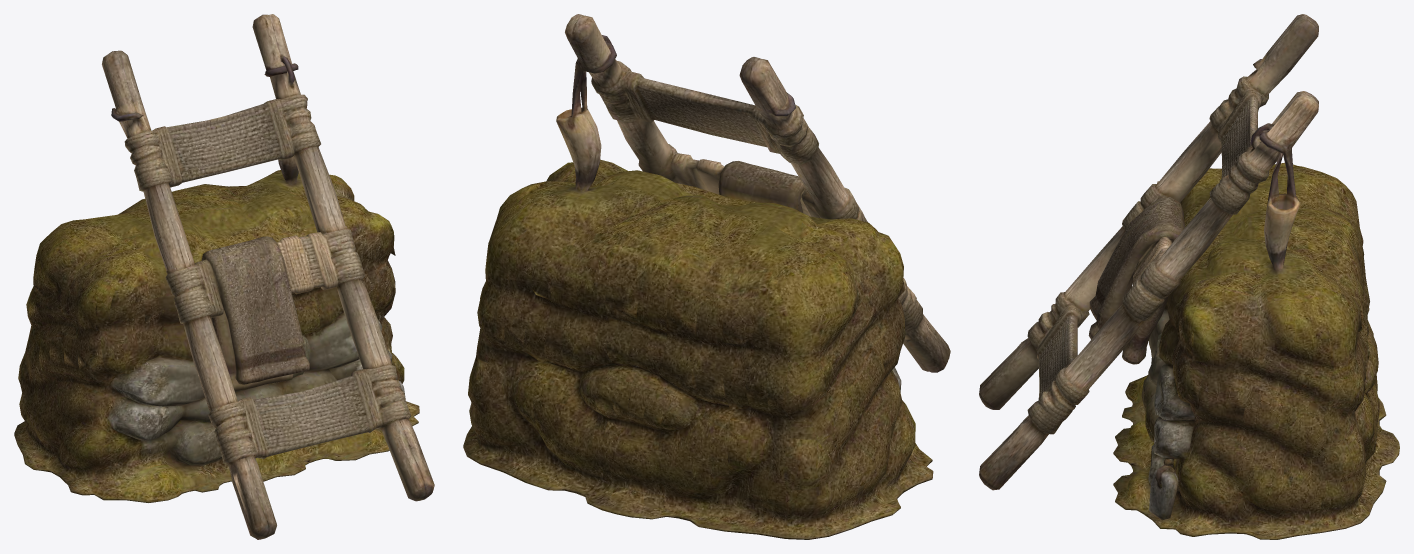
File: kit_lw_bier.glb
3 renders of one model, left to right at view 1: azimuth 30°, elevation 25°; view 2: azimuth 150°, elevation 25°; view 3: azimuth 270°, elevation 25°, orthographic. The views are drawn at different scales.
Parts seen in each view (by area): view 1: kit_lw_bier; view 2: kit_lw_bier; view 3: kit_lw_bier.
Boxes of the visible parts, x1,y1,x2,y2 form: kit_lw_bier: (14,14,434,539); kit_lw_bier: (463,14,950,539); kit_lw_bier: (979,14,1399,539).
Size of the model in its own units: 1.89 by 1.9 by 1.84.
Materials: 1 (1 with a texture image).
